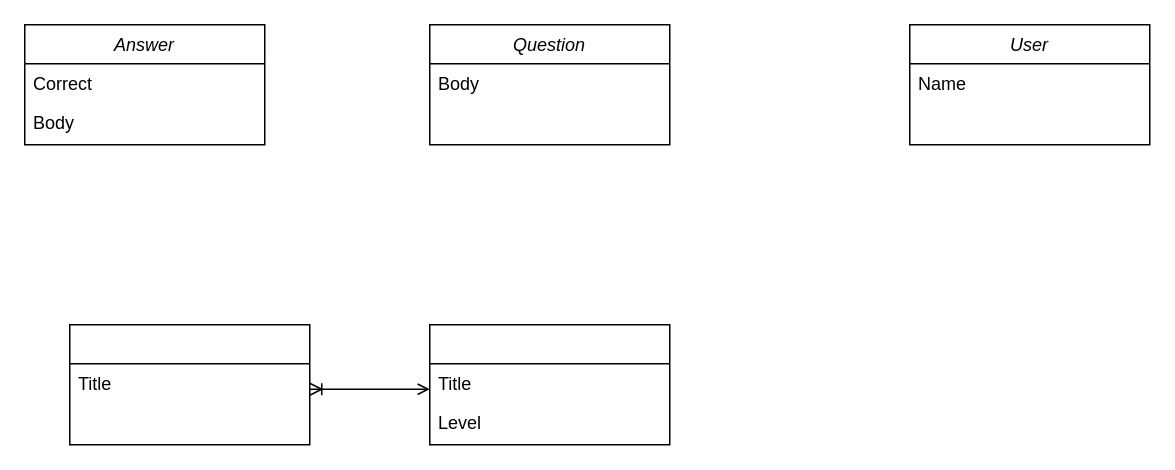
Some shapes in this 1175 by 470 pixel diagram are drawn without their labels. The box of each missing label's shape, as (x1, y1, x2, y2) in pixels:
Category: (68, 323, 310, 445)
Test: (428, 323, 670, 445)
